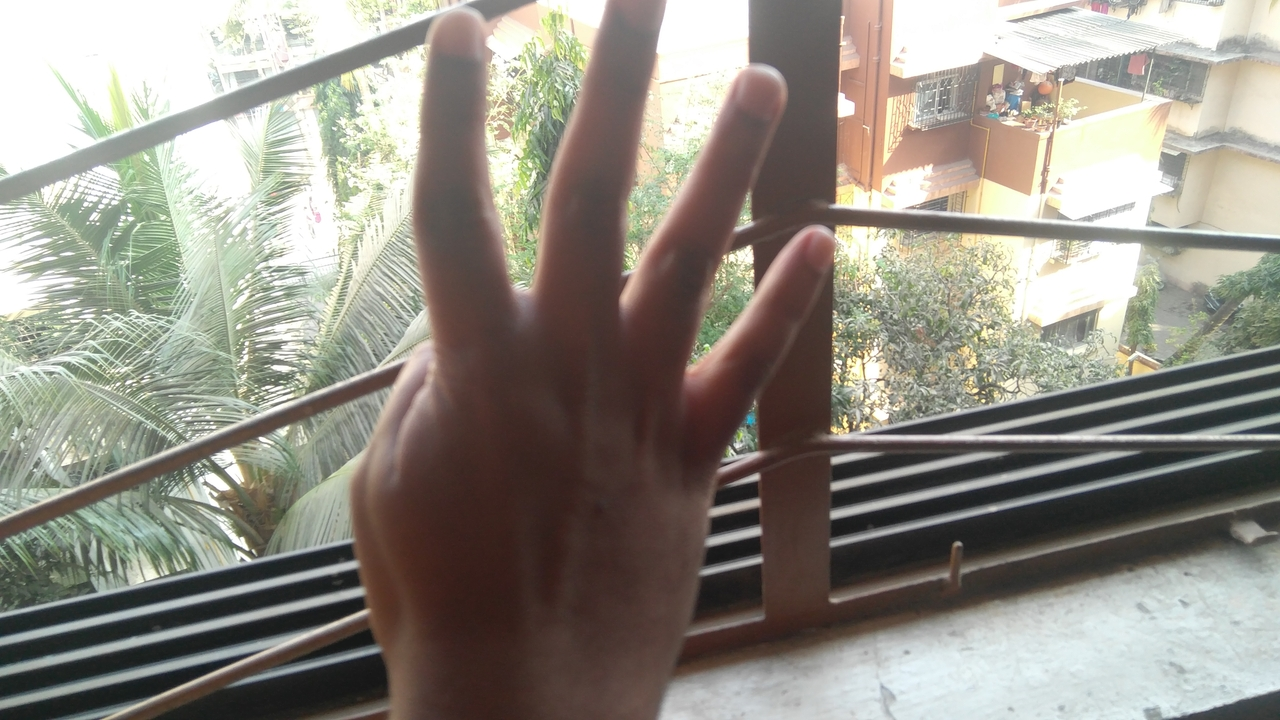fingertip: (724, 60, 790, 120), (774, 220, 834, 282), (426, 2, 486, 58), (603, 3, 665, 39)
